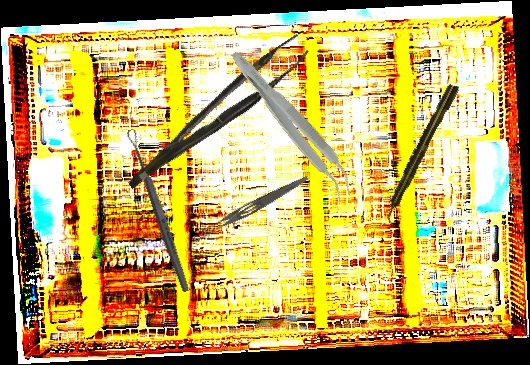Dressing Forceps: (198, 170, 310, 241)
Handpiece: (379, 82, 461, 224)
Surgical Spoon: (125, 127, 192, 294)
Tissue Forceps: (111, 33, 318, 190), (219, 45, 364, 204)
